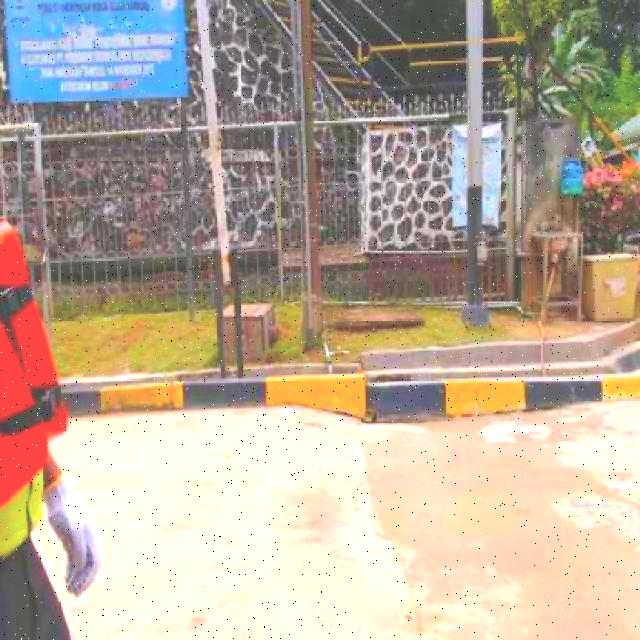Gloves: (42, 472, 106, 600)
Mask: (0, 215, 78, 509)
